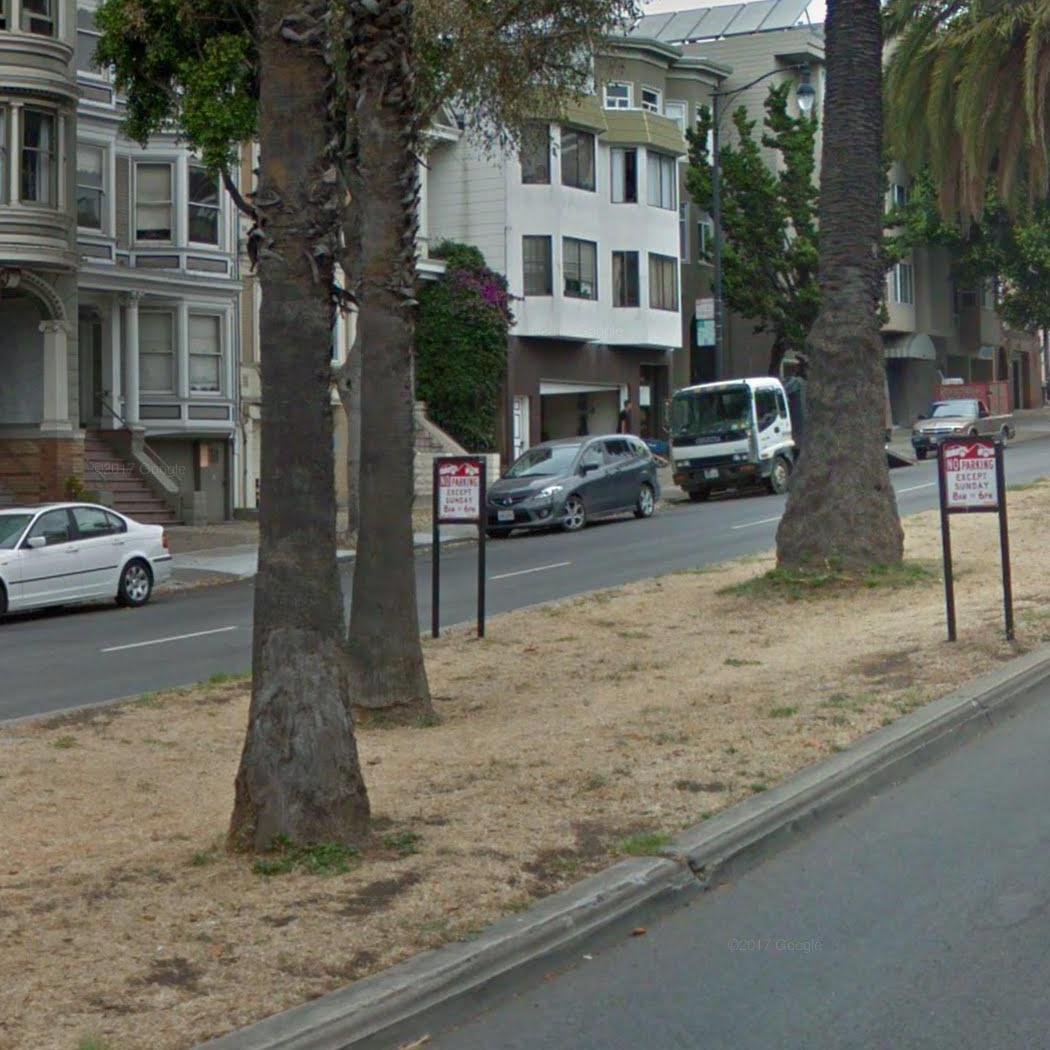No Parking: (941, 437, 1002, 510), (435, 458, 485, 522)
